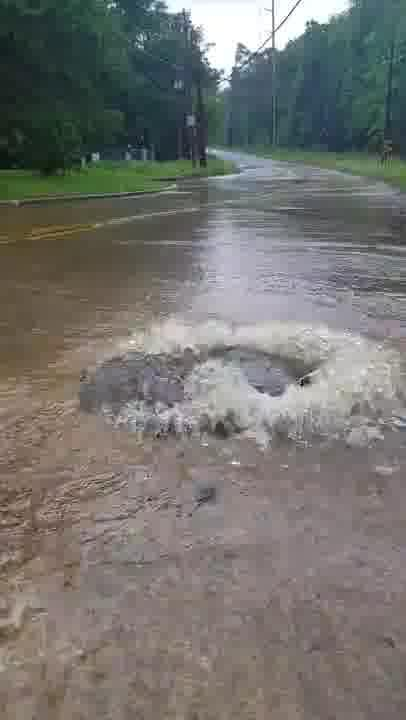drainage overflow-repair-: (60, 324, 341, 440)
